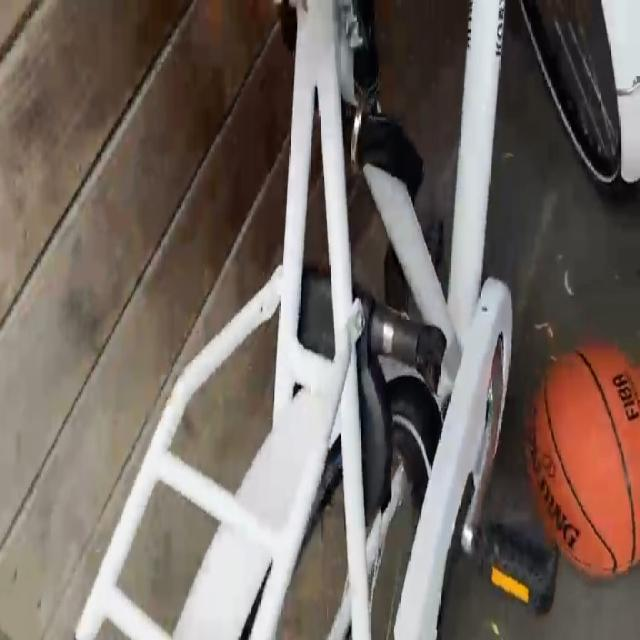Basketball: (530, 341, 638, 578)
